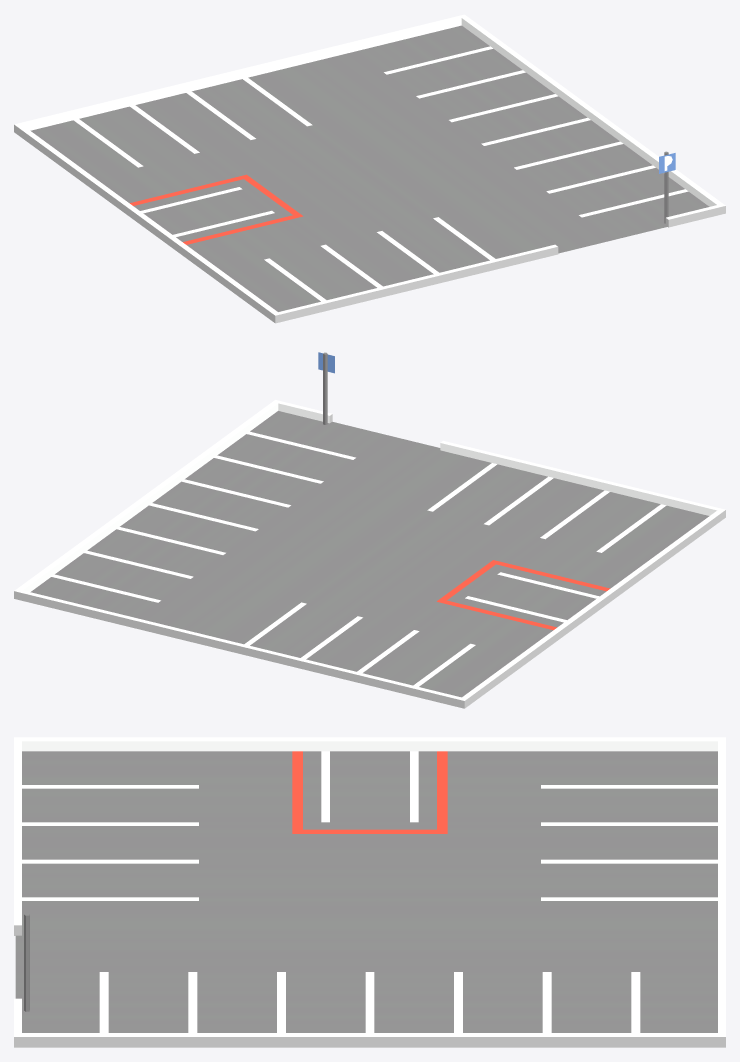
File: parking_tile_2x2_3.glb
The picture shows the model from 3 angles, top to bottom: view 1: azimuth 30°, elevation 25°; view 2: azimuth 150°, elevation 25°; view 3: azimuth 270°, elevation 25°; orthographic projection. The views are drawn at different scales.
Visible parts, largest first — view 1: parking_tile_2x2_3(Clone); view 2: parking_tile_2x2_3(Clone); view 3: parking_tile_2x2_3(Clone).
Boxes of the visible parts, box(x1,y1,x2,y2) form: parking_tile_2x2_3(Clone): box(14, 14, 725, 323); parking_tile_2x2_3(Clone): box(14, 352, 725, 708); parking_tile_2x2_3(Clone): box(14, 737, 725, 1047).
Size of the model in its own units: 16 by 2.47 by 16.07.
Materials: 1 (1 with a texture image).
